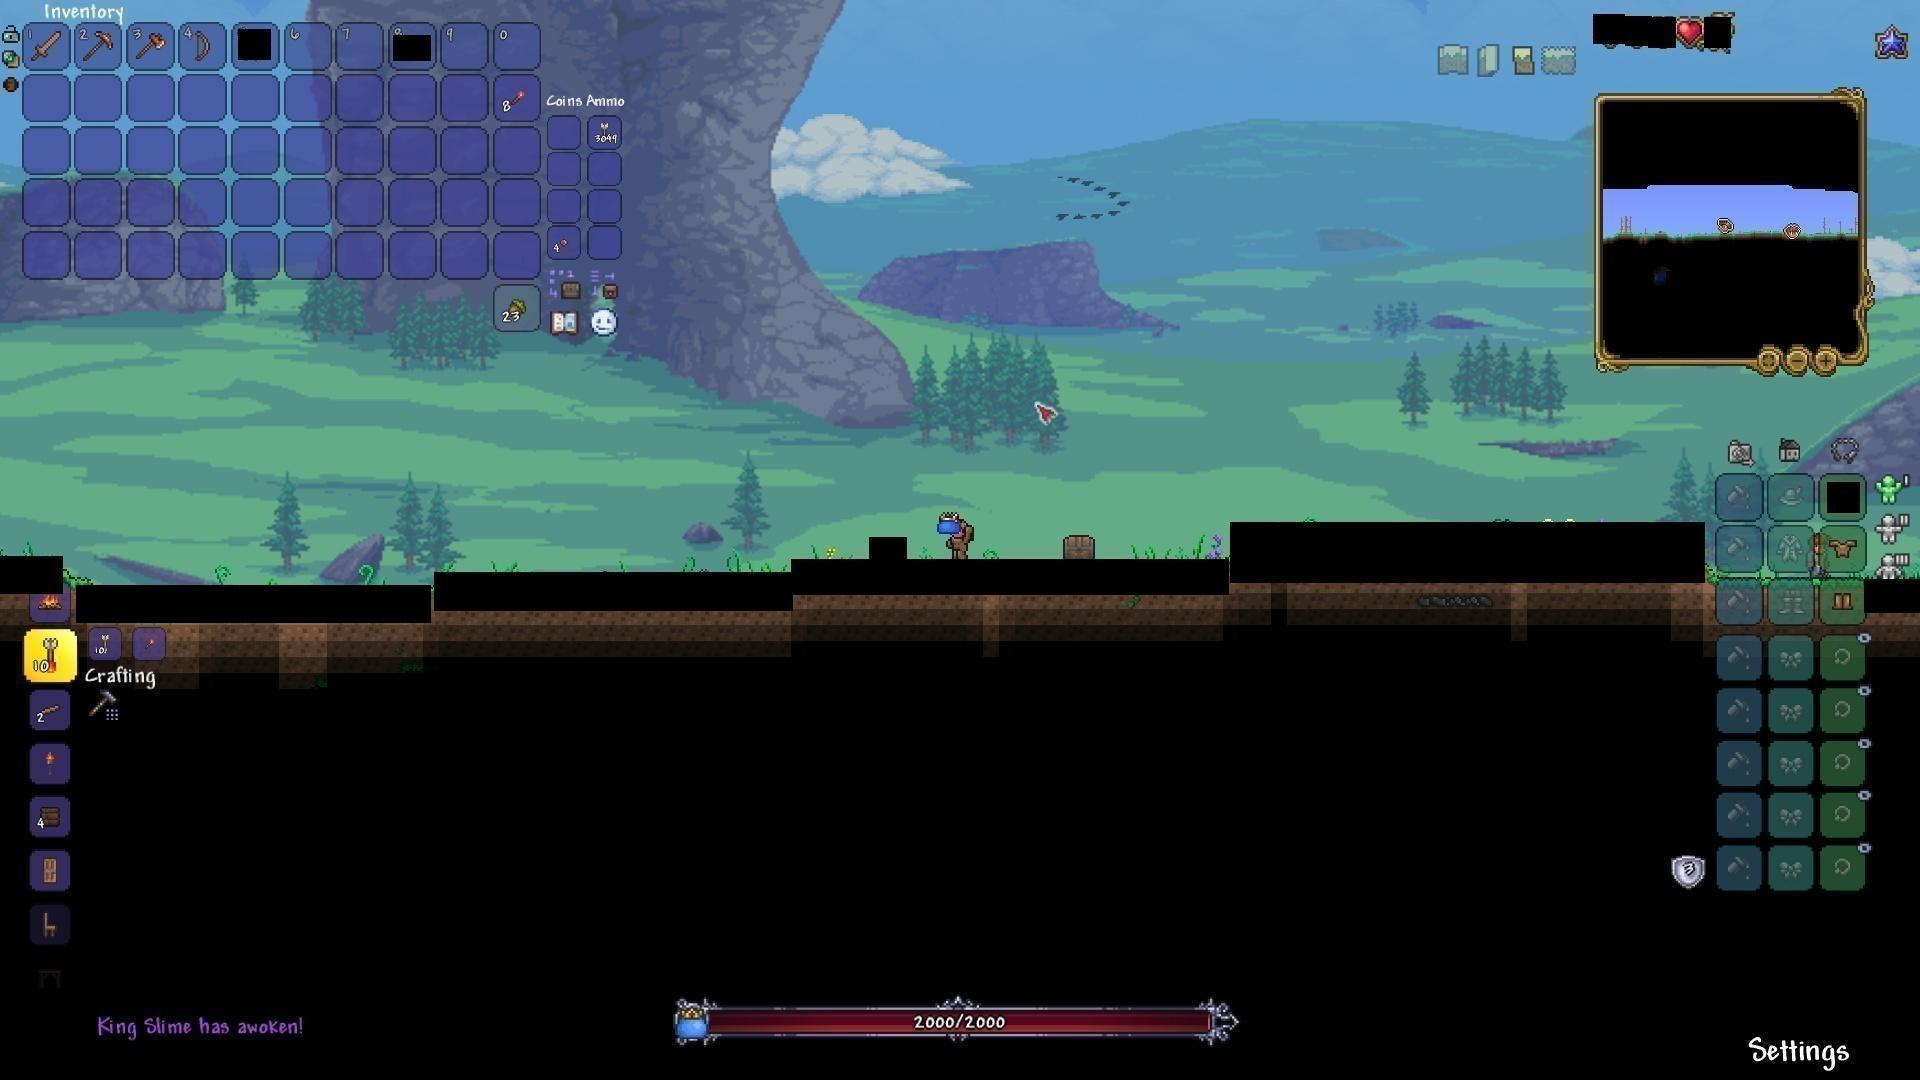breastplate: (1829, 539, 1858, 559)
heart: (1676, 17, 1704, 47)
legs: (1832, 589, 1857, 617)
